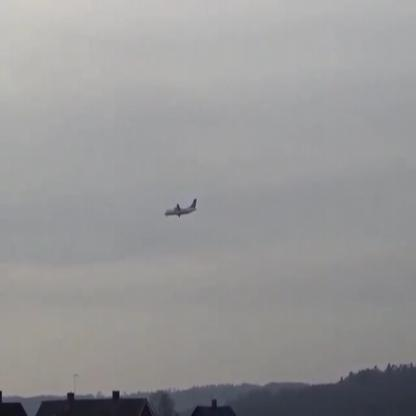CIV_Plane: (165, 198, 198, 219)
